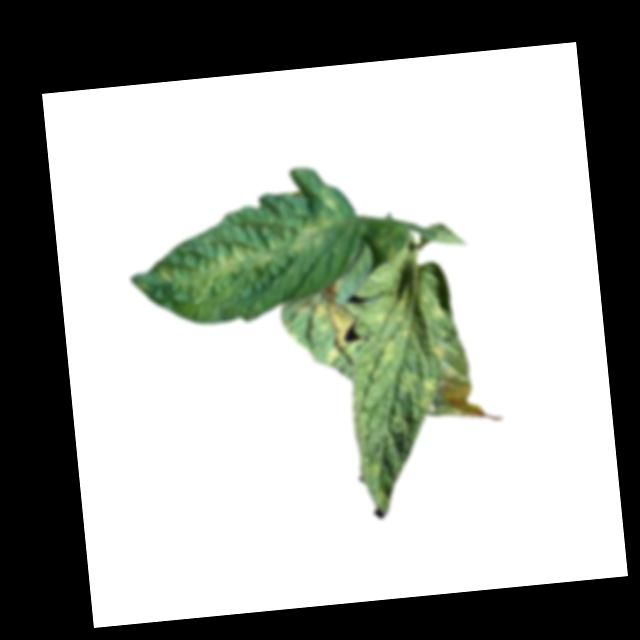Leaf_Mold: (156, 217, 333, 292), (308, 298, 361, 368), (436, 371, 499, 429), (370, 292, 418, 365), (398, 365, 439, 413), (429, 341, 447, 362)
